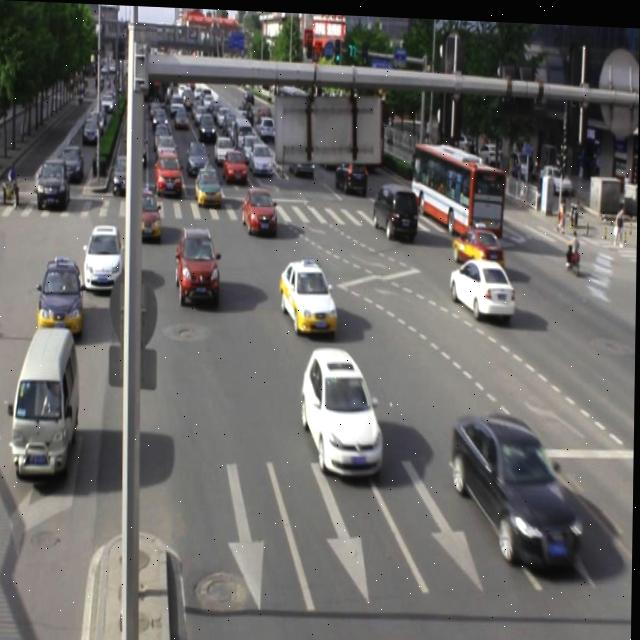car: (452, 401, 584, 566), (302, 341, 385, 474), (279, 255, 340, 329), (449, 250, 515, 315), (39, 255, 84, 335), (177, 222, 221, 303), (83, 220, 124, 292), (451, 218, 505, 268), (133, 184, 162, 241)
truck: (12, 323, 82, 479)
van: (409, 137, 504, 235)
